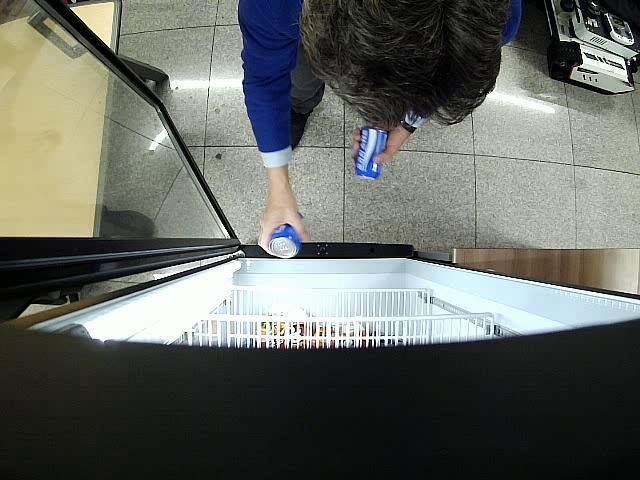13_pocariSweat: (356, 125, 388, 180), (268, 224, 300, 258)
